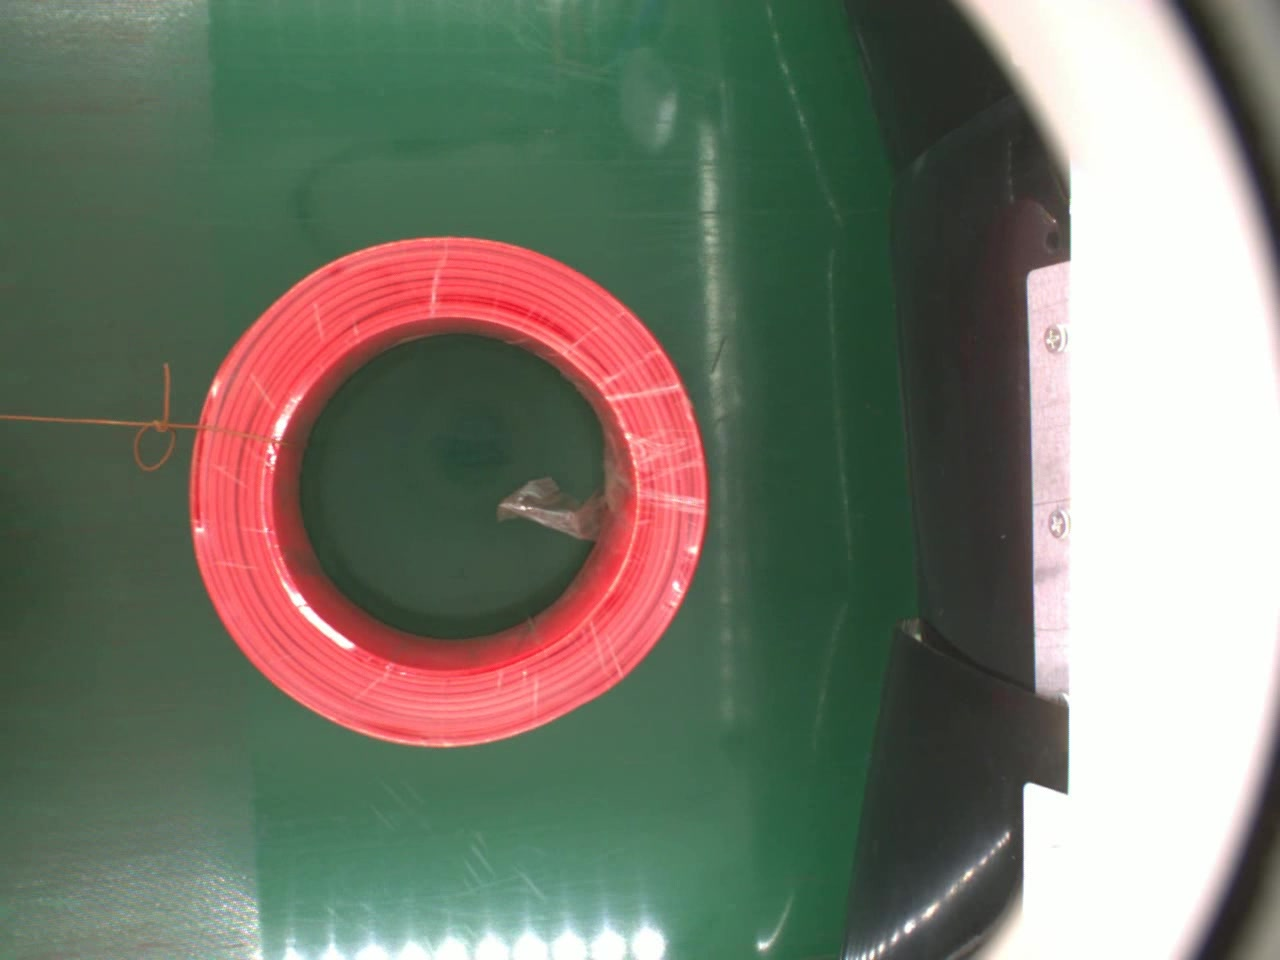red: (184, 231, 711, 750)
